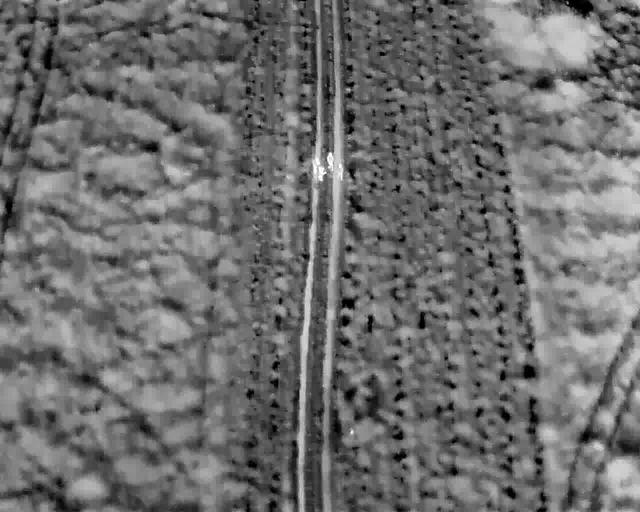person: (334, 160, 345, 181), (325, 151, 336, 171), (311, 156, 322, 176), (317, 165, 328, 183)
